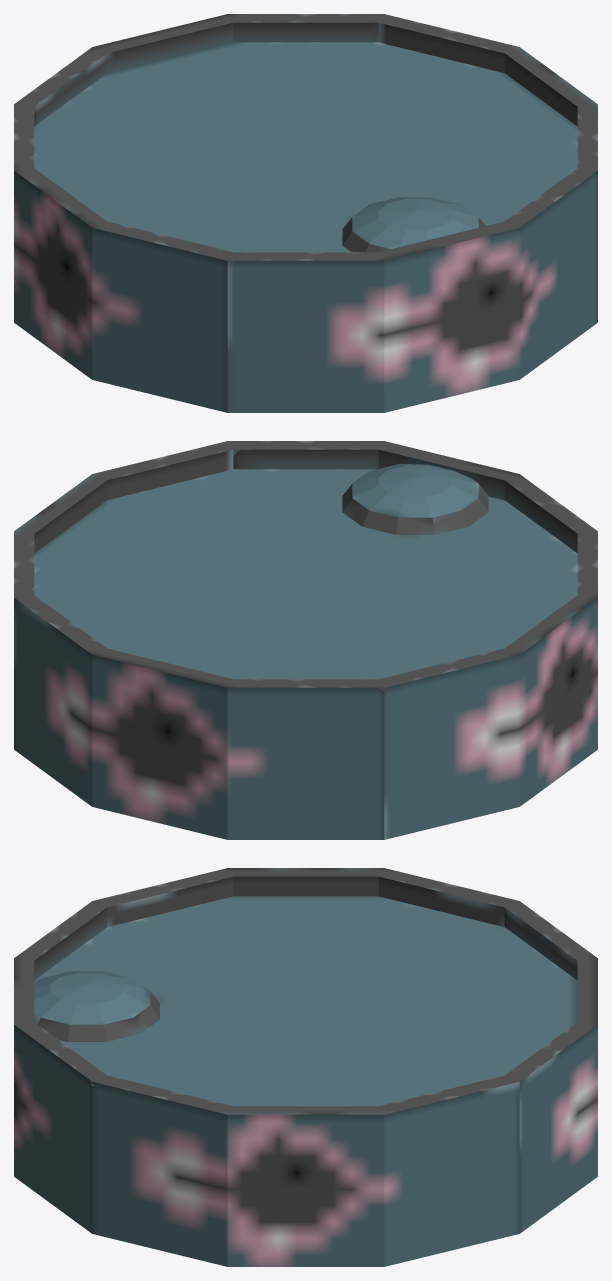
Rendered from can_tuna.fbx.
3 renders of one model, top to bottom at view 1: azimuth 30°, elevation 25°; view 2: azimuth 150°, elevation 25°; view 3: azimuth 270°, elevation 25°, orthographic.
Visible parts, largest first — view 1: sphere; view 2: sphere; view 3: sphere.
Part boxes in pixels (x1,y1,x2,y2): sphere: (14, 14, 597, 412); sphere: (14, 441, 597, 839); sphere: (14, 868, 597, 1266).
Size of the model in its own units: 50 by 15 by 50.
Materials: 1 (1 with a texture image).
